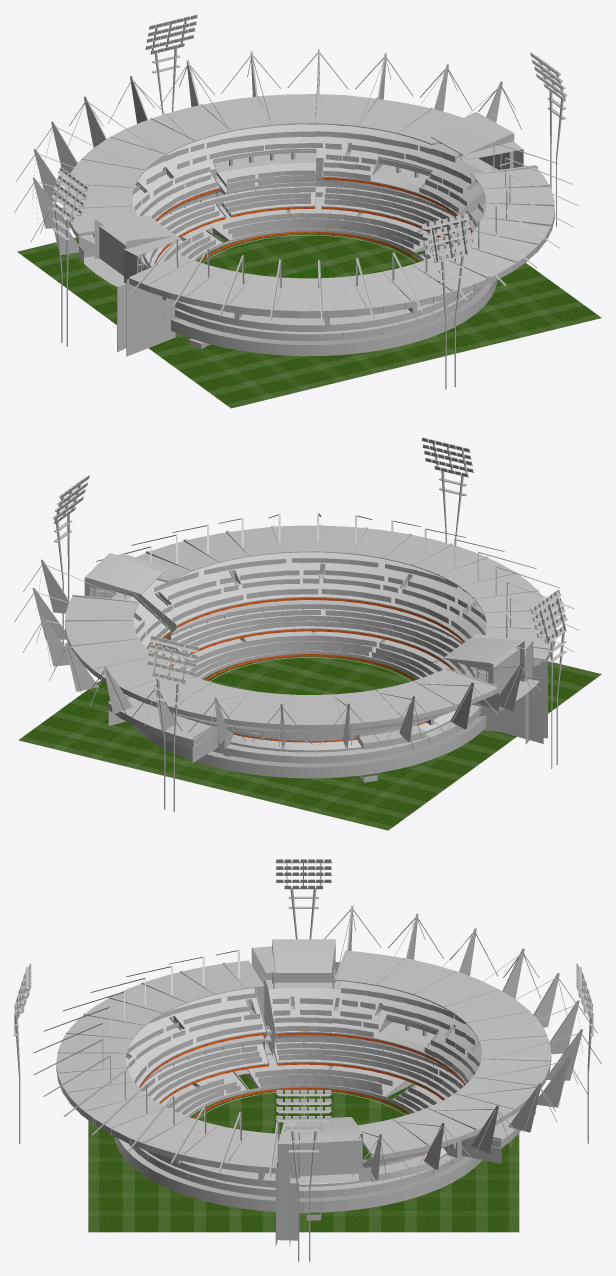
Rendered from Stadium.fbx.
The picture shows the model from 3 angles, top to bottom: view 1: azimuth 30°, elevation 25°; view 2: azimuth 150°, elevation 25°; view 3: azimuth 270°, elevation 25°; orthographic projection.
Visible parts, largest first — view 1: pitch, SM255, SM8, SM244, SM235, SM21, SM237, SM203, SM9, SM236, SM226, SM256 (+24 smaller); view 2: pitch, SM8, SM255, SM23, SM235, SM19, SM237, SM236, SM309, SM226, SM205, SM251 (+28 smaller); view 3: pitch, SM8, SM255, SM244, SM23, SM235, SM236, SM237, SM37, SM226, SM310, SM254 (+30 smaller).
Boxes of the visible parts, x1,y1,x2,y2 form: pitch: (17, 179, 601, 408); SM255: (129, 167, 554, 311); SM8: (63, 94, 463, 234); SM244: (80, 124, 483, 272); SM235: (157, 179, 473, 334); SM21: (171, 280, 497, 356); SM237: (174, 179, 483, 340); SM203: (126, 279, 182, 356); SM9: (129, 214, 554, 317); SM236: (145, 186, 463, 266); SM226: (156, 197, 460, 263); SM256: (420, 213, 473, 389); pitch: (18, 656, 601, 830); SM8: (65, 596, 498, 724); SM255: (136, 525, 554, 660); SM23: (141, 552, 542, 681); SM235: (156, 600, 480, 756); SM19: (133, 716, 486, 778); SM237: (174, 606, 481, 763); SM236: (151, 609, 476, 676); SM309: (146, 635, 198, 811); SM226: (167, 631, 450, 678); SM205: (472, 676, 543, 743); SM251: (84, 553, 162, 598); pitch: (88, 1074, 519, 1232); SM8: (333, 951, 551, 1155); SM255: (56, 960, 277, 1167); SM244: (269, 981, 481, 1164); SM23: (125, 988, 265, 1086); SM235: (139, 1035, 459, 1190); SM236: (140, 1042, 464, 1102); SM237: (129, 1039, 465, 1197); SM37: (272, 939, 335, 982); SM226: (161, 1053, 442, 1115); SM310: (275, 1090, 332, 1261); SM254: (277, 1118, 299, 1240).
Bounding box in the file's own units: 33994 × 10689 × 34214.
